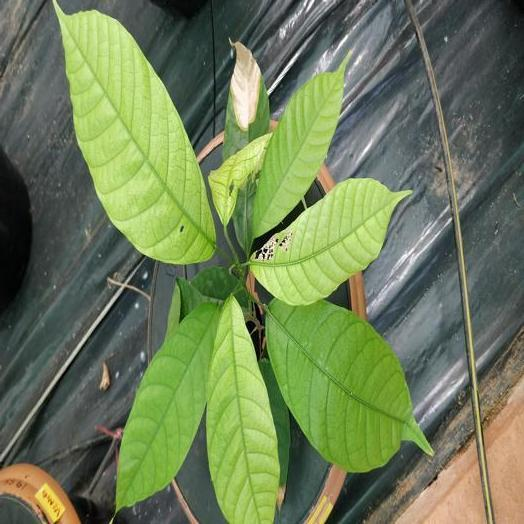Iron: (58, 7, 215, 263), (266, 299, 431, 471), (117, 306, 217, 510), (249, 179, 410, 304), (252, 58, 347, 237), (207, 296, 279, 523), (222, 38, 270, 157), (209, 133, 270, 225)
